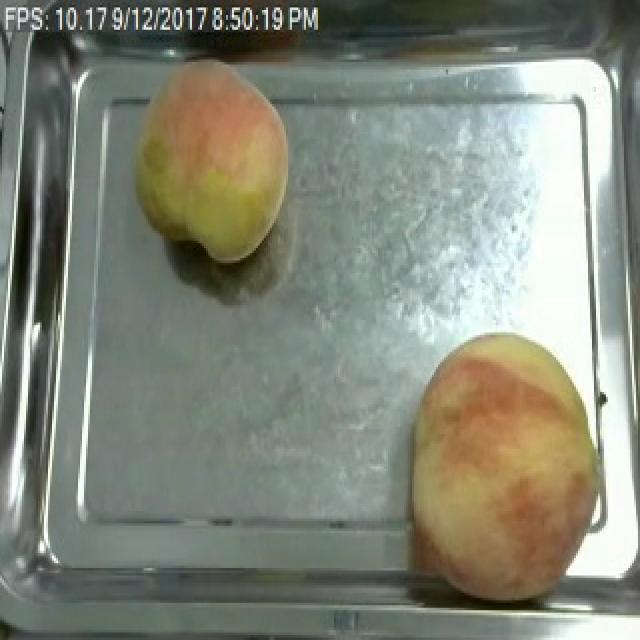Fruit: (386, 322, 614, 608), (122, 49, 298, 270)
